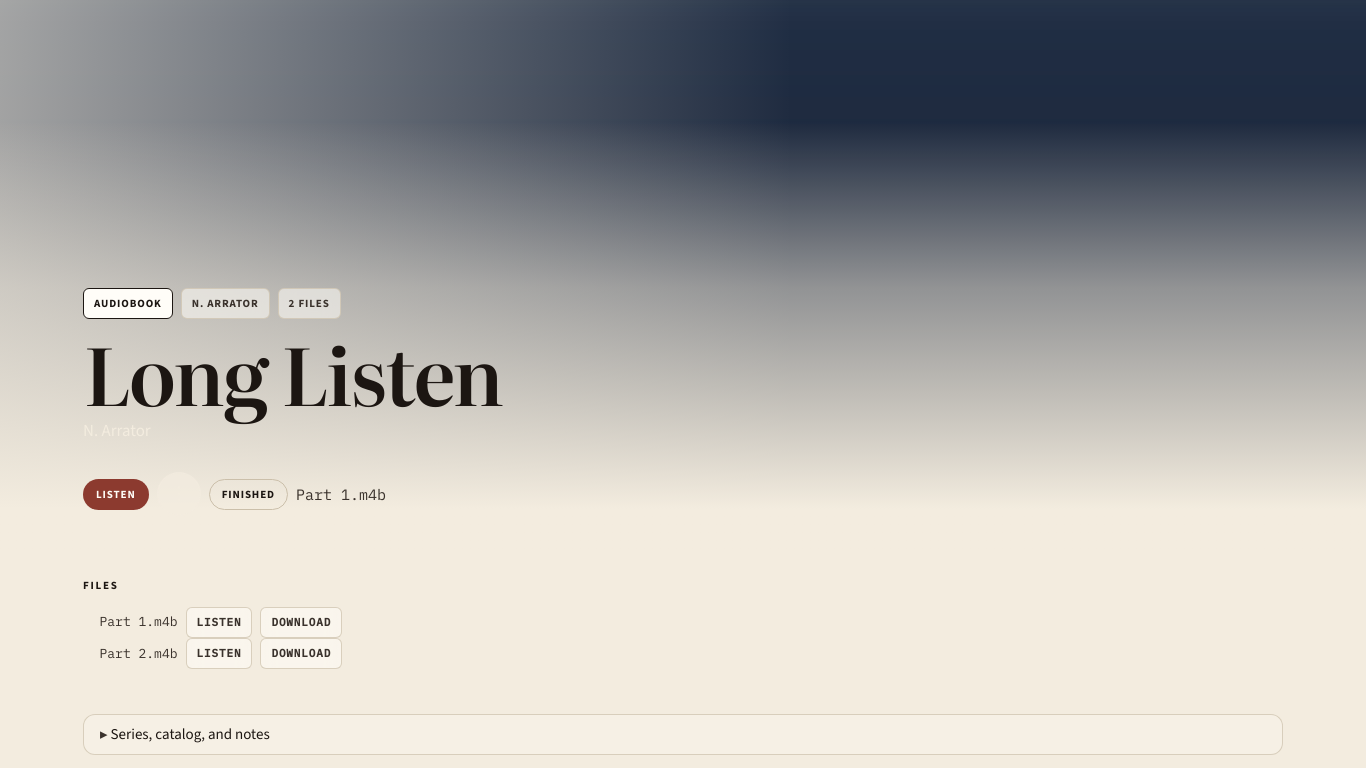
Scenario: Work page listen shell › opens the Listening room from Listen and writes the shareable deep link
Click the button with test id "work-listen" at (116, 494), box [83,479,149,510]
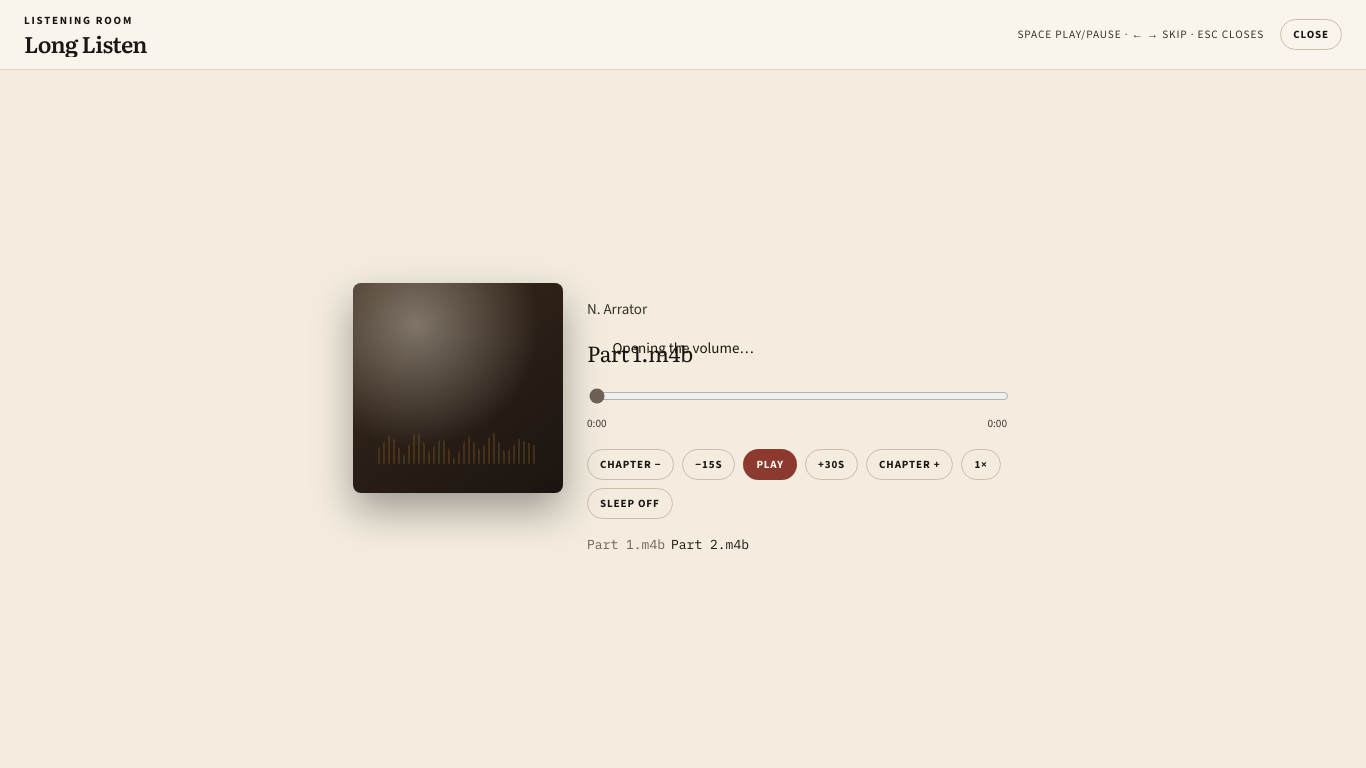
Now the dialog "Long Listen" is shown
Click the button "Close" at (1311, 34), box [1280,19,1342,50]
(page scrolled)
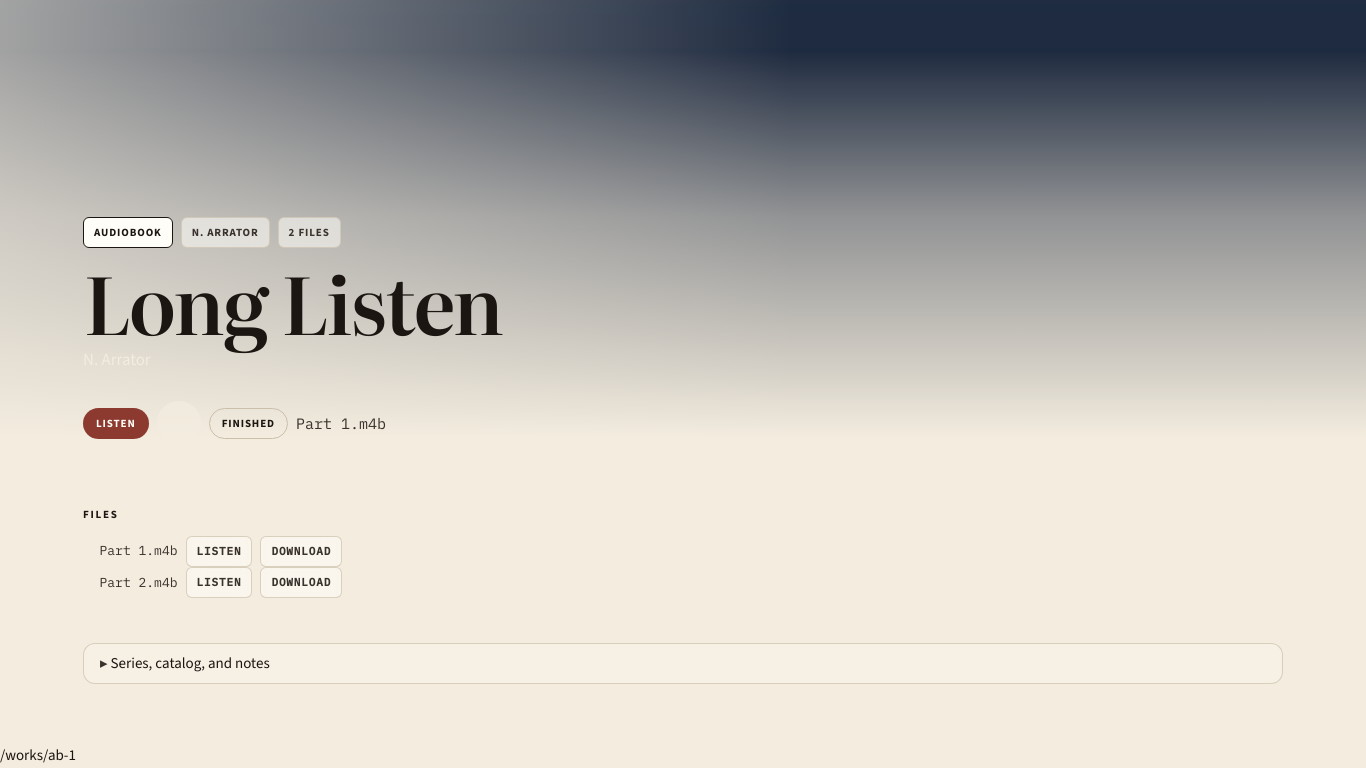
Now the dialog is gone
Now the text with test id "where" reads "/works/ab-1", box [0,745,76,766]
